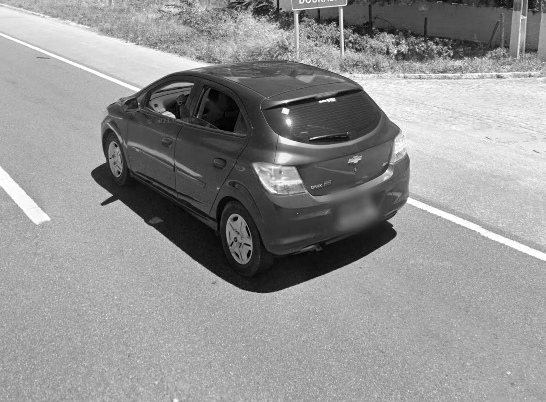car: (98, 57, 411, 280)
